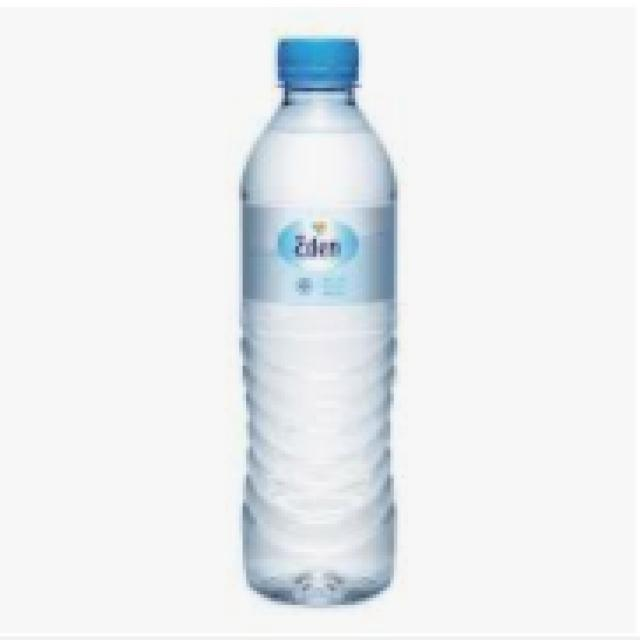litter: (265, 30, 372, 105)
